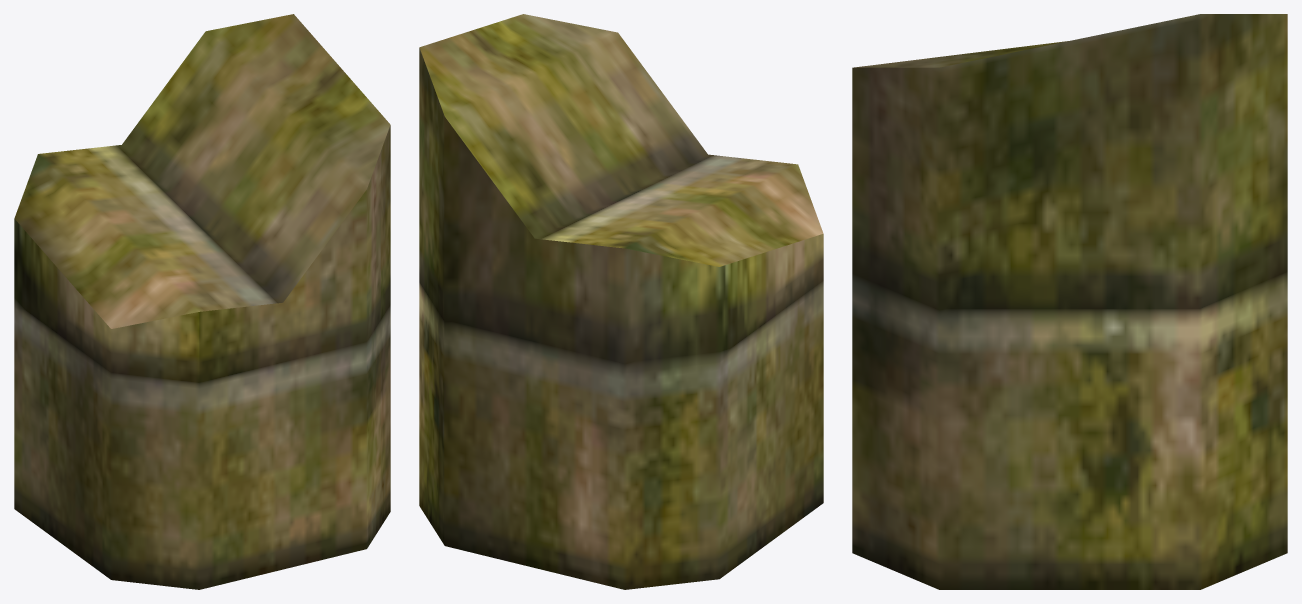
File: OVERHILL_A_01_LINE385.fbx
The picture shows the model from 3 angles, left to right: view 1: azimuth 30°, elevation 25°; view 2: azimuth 150°, elevation 25°; view 3: azimuth 270°, elevation 25°; orthographic projection. The views are drawn at different scales.
Visible parts, largest first — view 1: OVERHILL_A_01_LINE385; view 2: OVERHILL_A_01_LINE385; view 3: OVERHILL_A_01_LINE385.
Boxes of the visible parts, x1,y1,x2,y2 form: OVERHILL_A_01_LINE385: [14, 14, 390, 589]; OVERHILL_A_01_LINE385: [419, 14, 823, 589]; OVERHILL_A_01_LINE385: [852, 14, 1287, 589].
Bounding box in the file's own units: 9604 × 14025 × 9604.
Materials: 1 (1 with a texture image).
